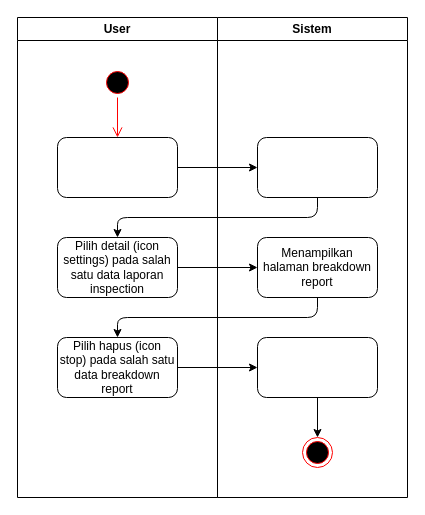
The diagram is 425 pixels wide and 515 high, and some of its shapes have lost their labels. The centre of each missing label's shape, as x and y in pixels:
"Menampilkan halaman laporan inspection" goes at (317,167).
"Perubahan data berhasil tersimpan" goes at (317,367).
"Pilih fitur laporan inspection" goes at (117,167).
